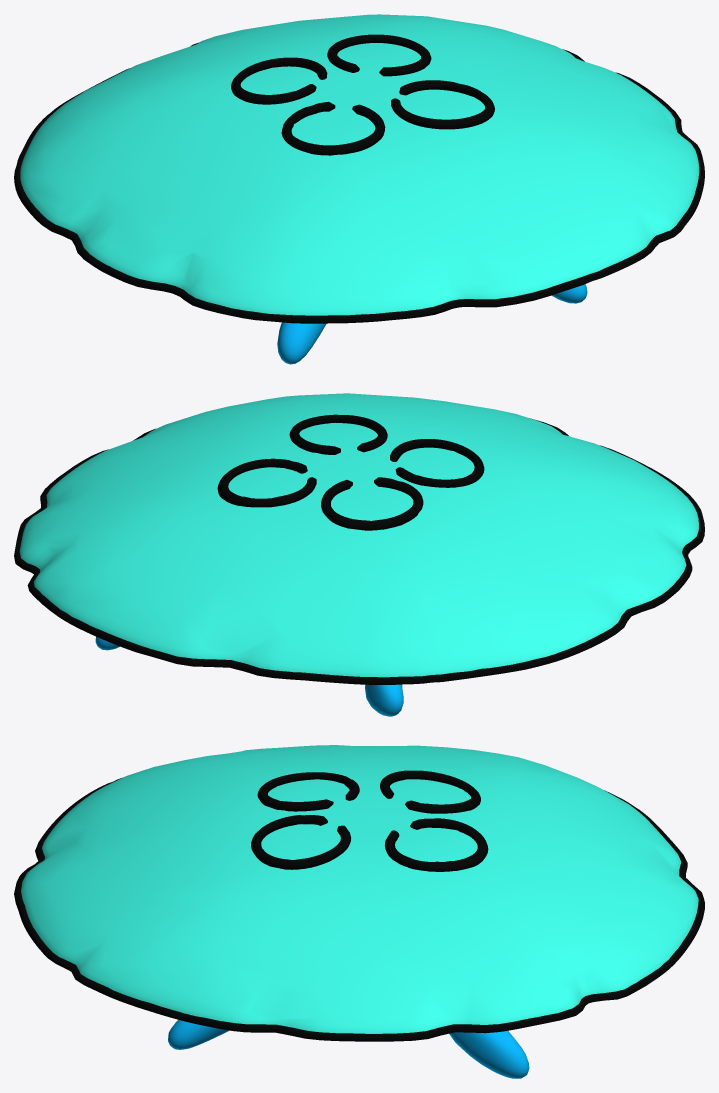
File: jelly_11.FBX
3 renders of one model, top to bottom at view 1: azimuth 30°, elevation 25°; view 2: azimuth 150°, elevation 25°; view 3: azimuth 270°, elevation 25°, orthographic. The views are drawn at different scales.
Visible parts, largest first — view 1: jelly10; view 2: jelly10; view 3: jelly10.
Boxes of the visible parts, x1,y1,x2,y2 form: jelly10: (14, 14, 704, 364); jelly10: (14, 393, 704, 716); jelly10: (14, 745, 704, 1078).
Size of the model in its own units: 136 by 39.78 by 136.
